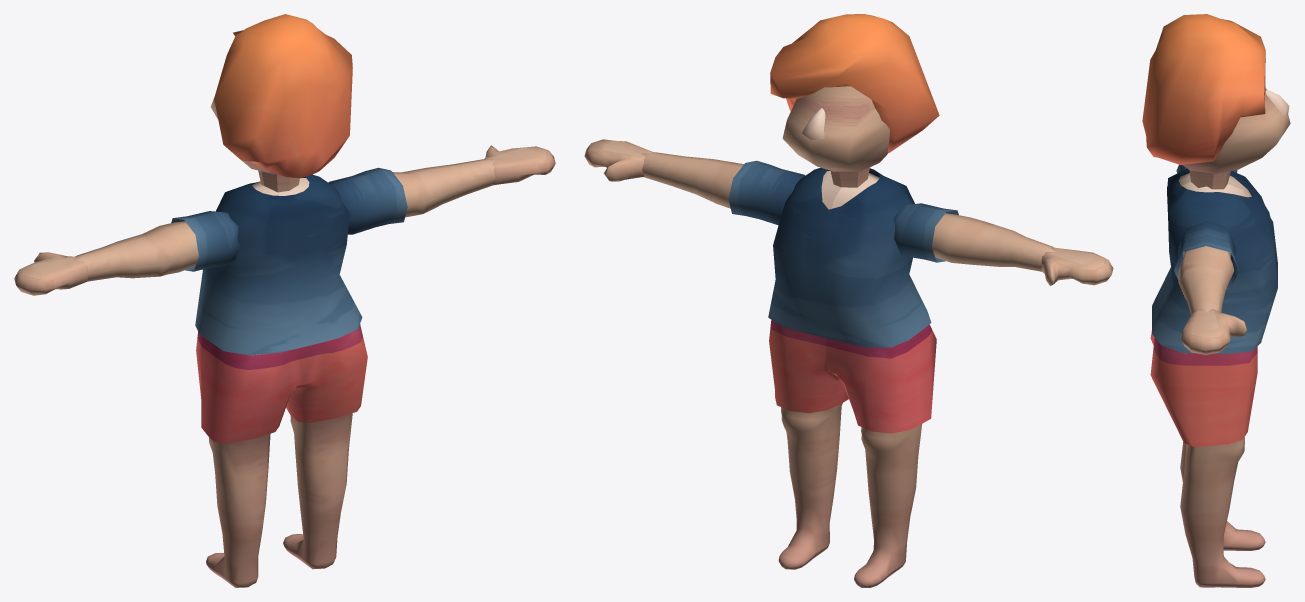
The model's file is Child_Tpose.fbx.
3 views of the same model, side by side, from view 1: azimuth 30°, elevation 25°; view 2: azimuth 150°, elevation 25°; view 3: azimuth 270°, elevation 25° (orthographic). The views are drawn at different scales.
Parts seen in each view (by area): view 1: polySurface24; view 2: polySurface24; view 3: polySurface24.
Boxes of the visible parts, x1,y1,x2,y2 form: polySurface24: (14,14,555,587); polySurface24: (584,14,1113,587); polySurface24: (1142,14,1290,587).
Size of the model in its own units: 266 by 263 by 64.64.
